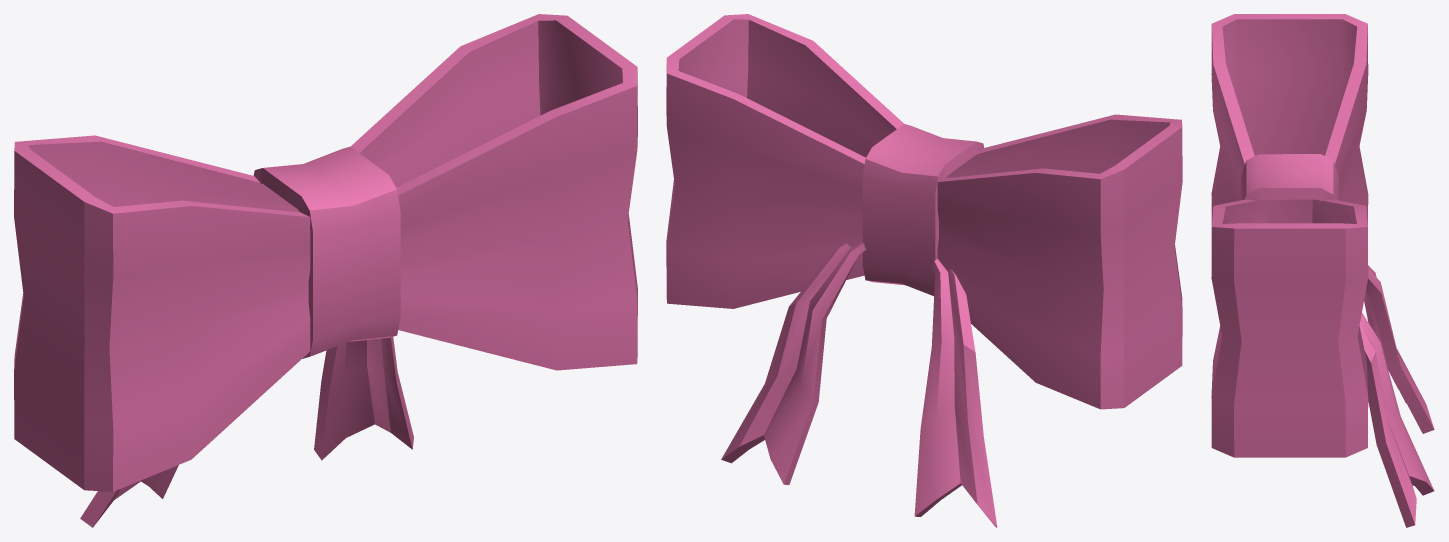
File: ribbon.fbx
The picture shows the model from 3 angles, left to right: view 1: azimuth 30°, elevation 25°; view 2: azimuth 150°, elevation 25°; view 3: azimuth 270°, elevation 25°; orthographic projection. The views are drawn at different scales.
Parts seen in each view (by area): view 1: Cube, Cube.001, Plane; view 2: Cube, Plane, Cube.001; view 3: Cube, Plane, Cube.001.
Part boxes in pixels (box(x1,y1,x2,y2)): Cube: box(14, 14, 637, 491); Cube.001: box(253, 146, 400, 358); Plane: box(80, 337, 413, 527); Cube: box(666, 14, 1182, 409); Plane: box(721, 242, 997, 527); Cube.001: box(862, 124, 984, 295); Cube: box(1211, 14, 1368, 457); Plane: box(1359, 265, 1434, 527); Cube.001: box(1241, 154, 1338, 201).
Bounding box in the file's own units: 28.12 × 21.05 × 12.34.
